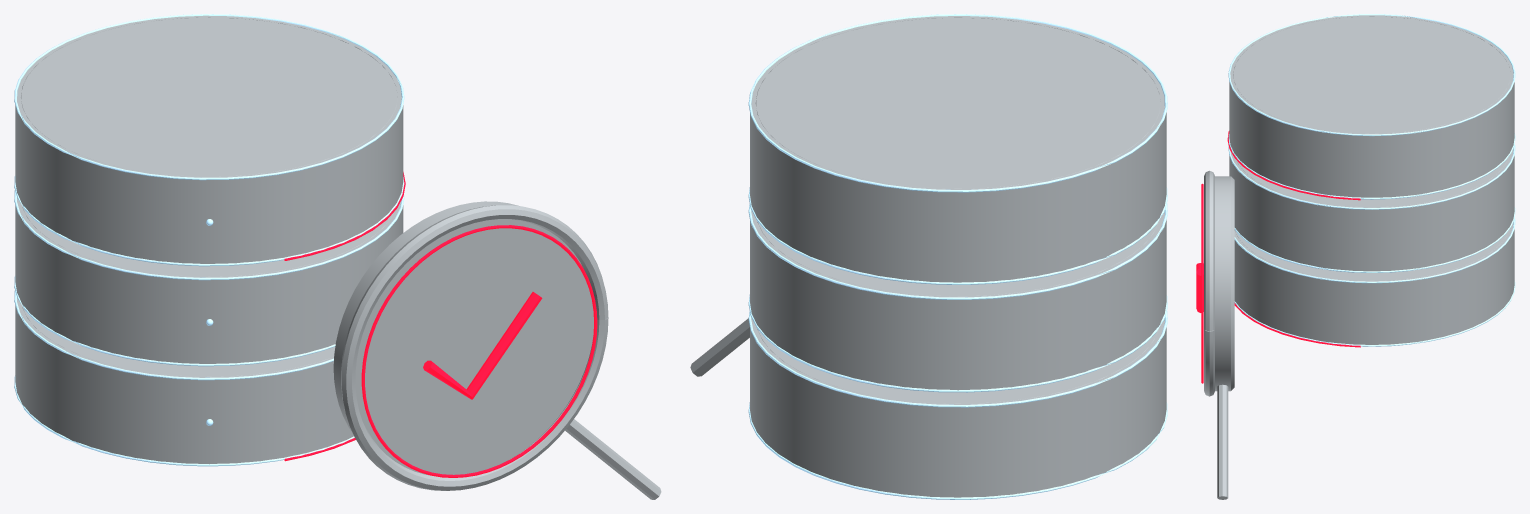
File: 04-data-quality.glb
3 views of the same model, side by side, from view 1: azimuth 30°, elevation 25°; view 2: azimuth 150°, elevation 25°; view 3: azimuth 270°, elevation 25° (orthographic). The views are drawn at different scales.
Parts seen in each view (by area): view 1: BC thin clear technical glass, BC cool glass edge, BC ruby signal edge; view 2: BC thin clear technical glass, BC cool glass edge; view 3: BC thin clear technical glass, BC cool glass edge, BC ruby signal edge.
Boxes of the visible parts, <box> form: BC thin clear technical glass: <box>15,15,661,499</box>; BC cool glass edge: <box>14,14,404,466</box>; BC ruby signal edge: <box>284,172,597,477</box>; BC thin clear technical glass: <box>690,16,1166,497</box>; BC cool glass edge: <box>748,14,1167,499</box>; BC thin clear technical glass: <box>1204,15,1514,499</box>; BC cool glass edge: <box>1228,14,1515,346</box>; BC ruby signal edge: <box>1196,131,1360,383</box>.
Size of the model in its own units: 2.01 by 1.53 by 1.45.
